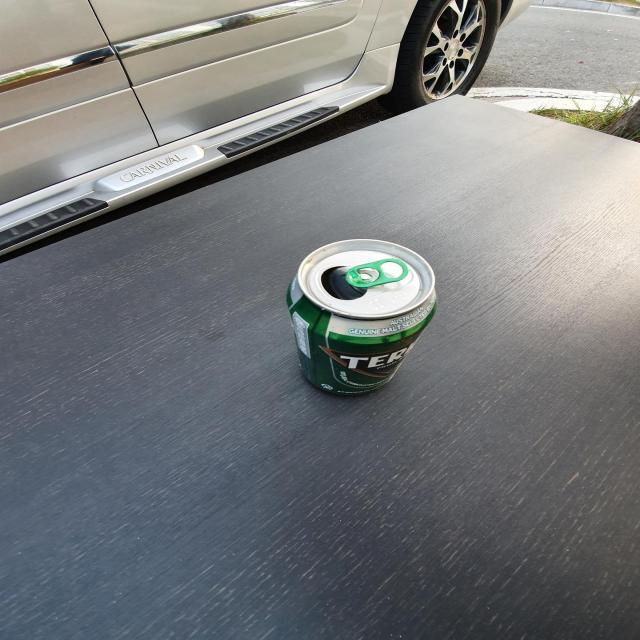can: (287, 239, 436, 395)
